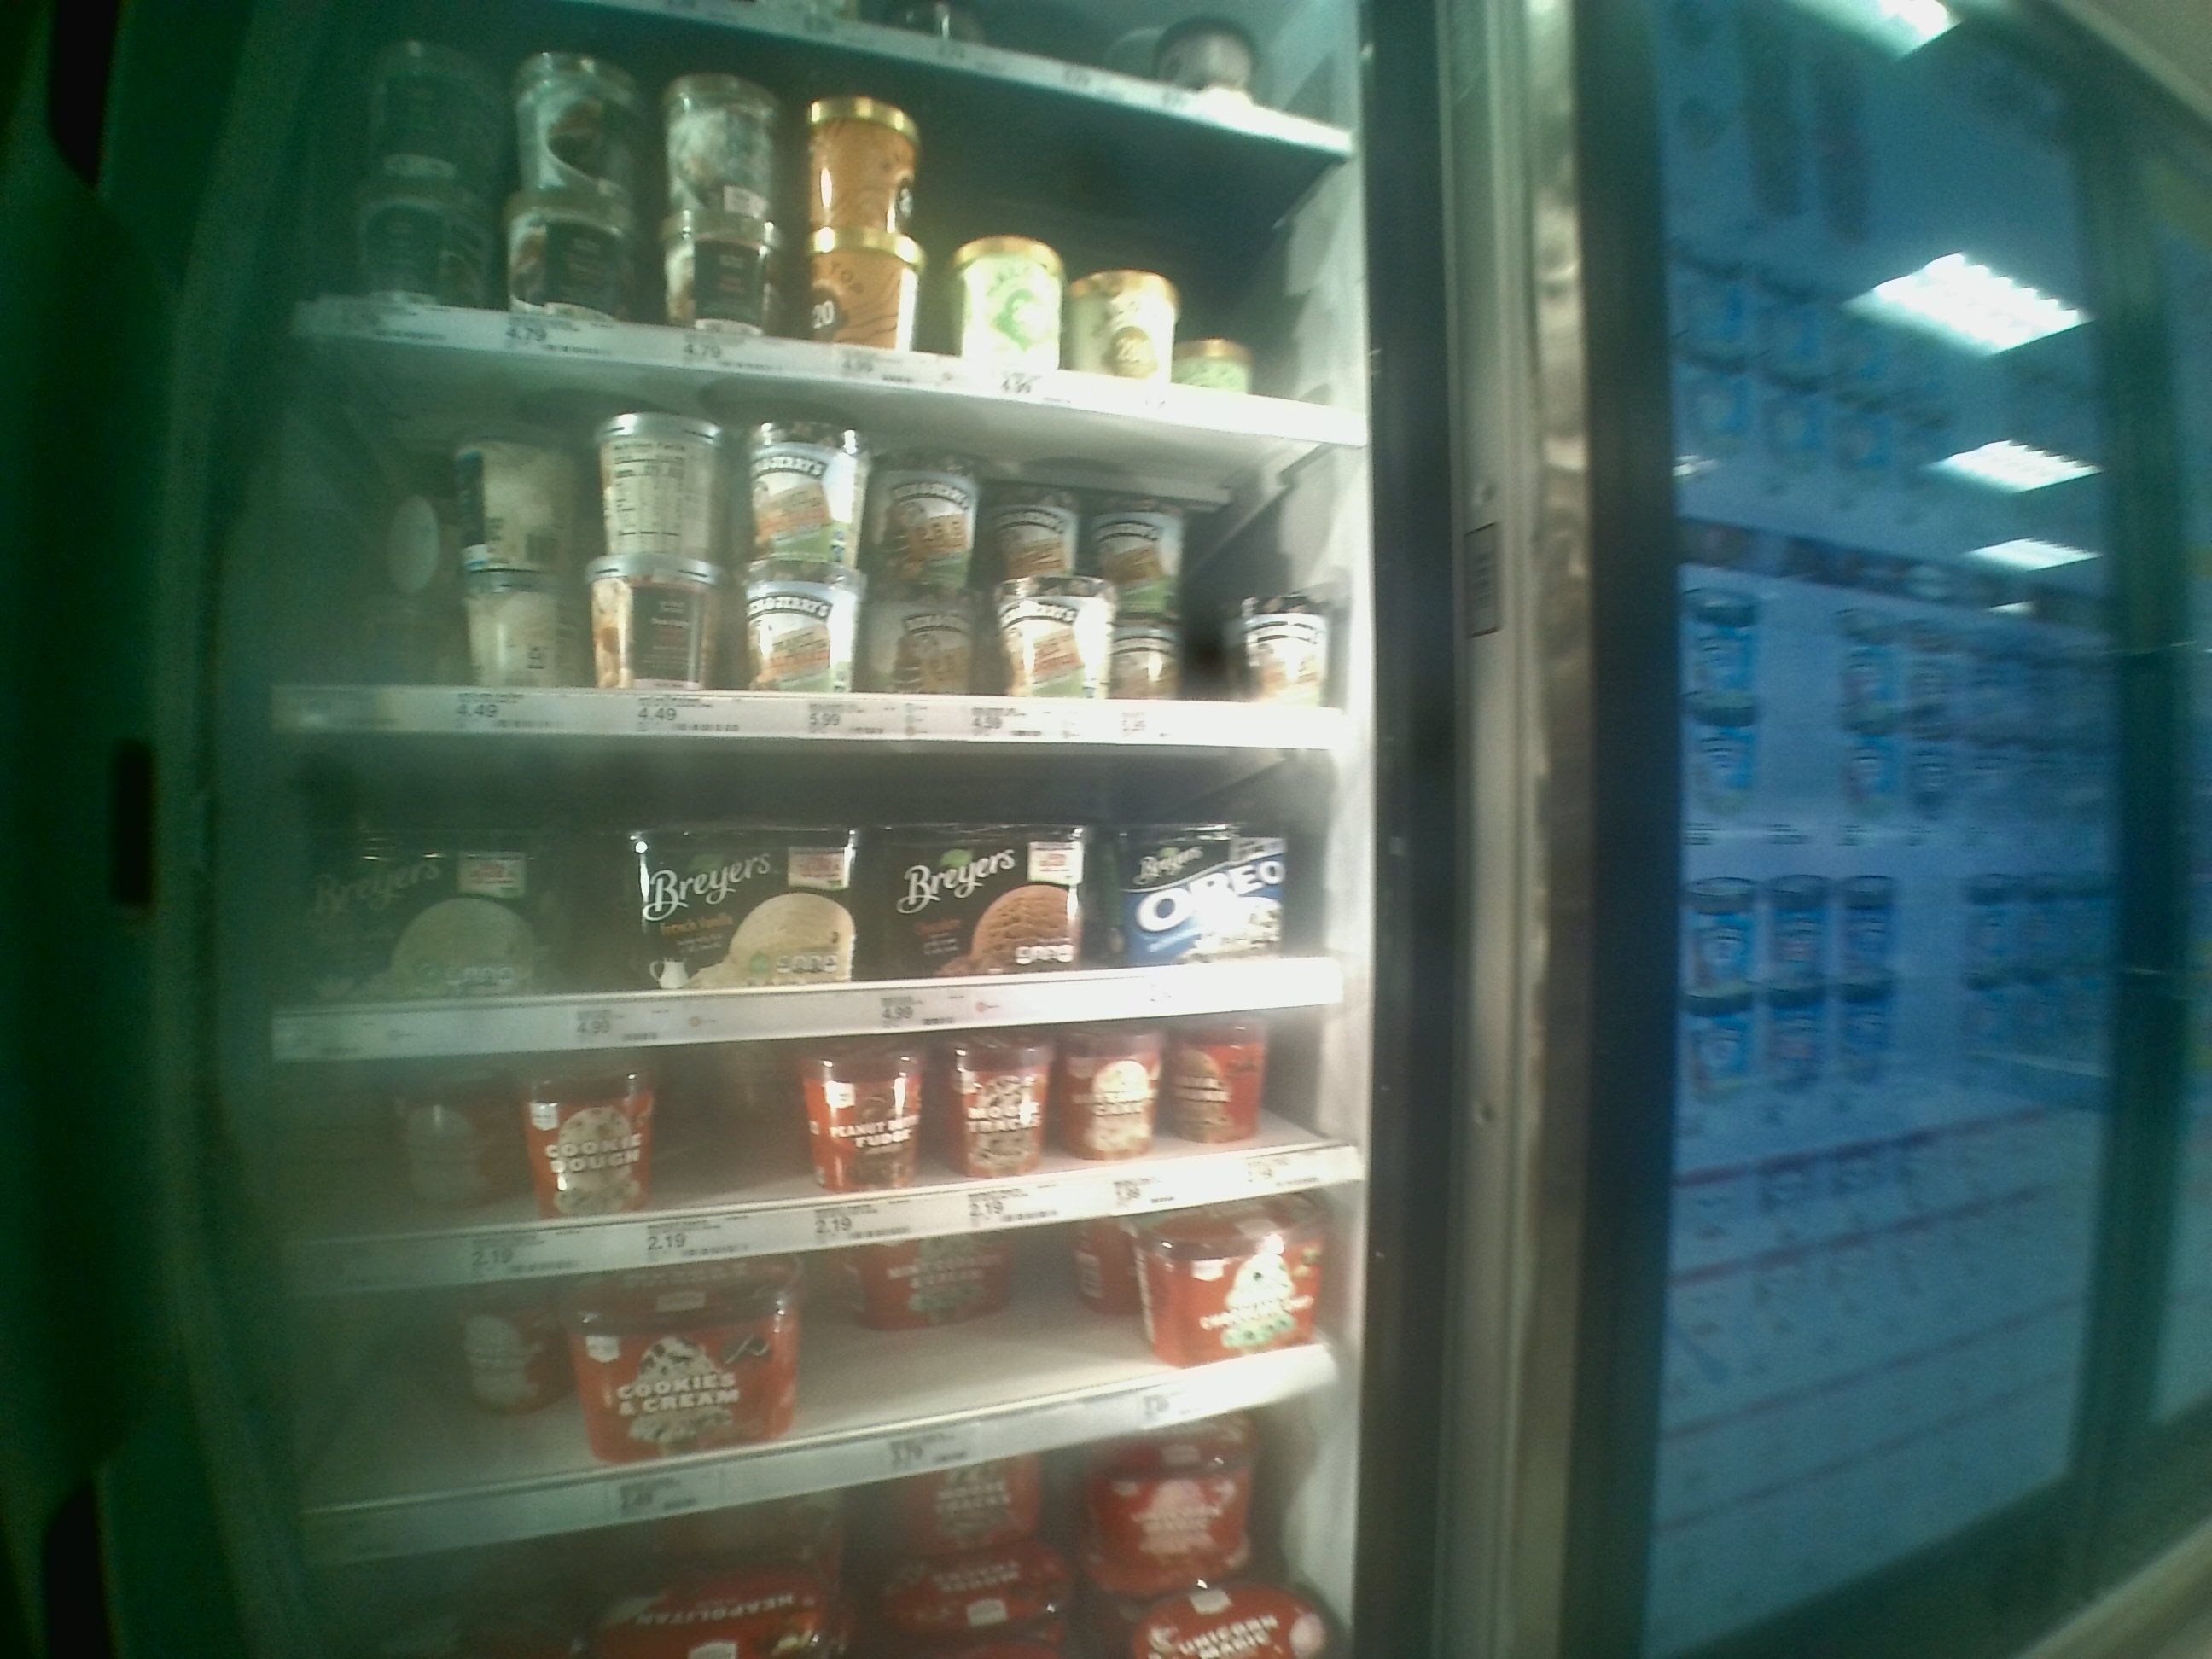shelf: (275, 734, 1350, 1035)
